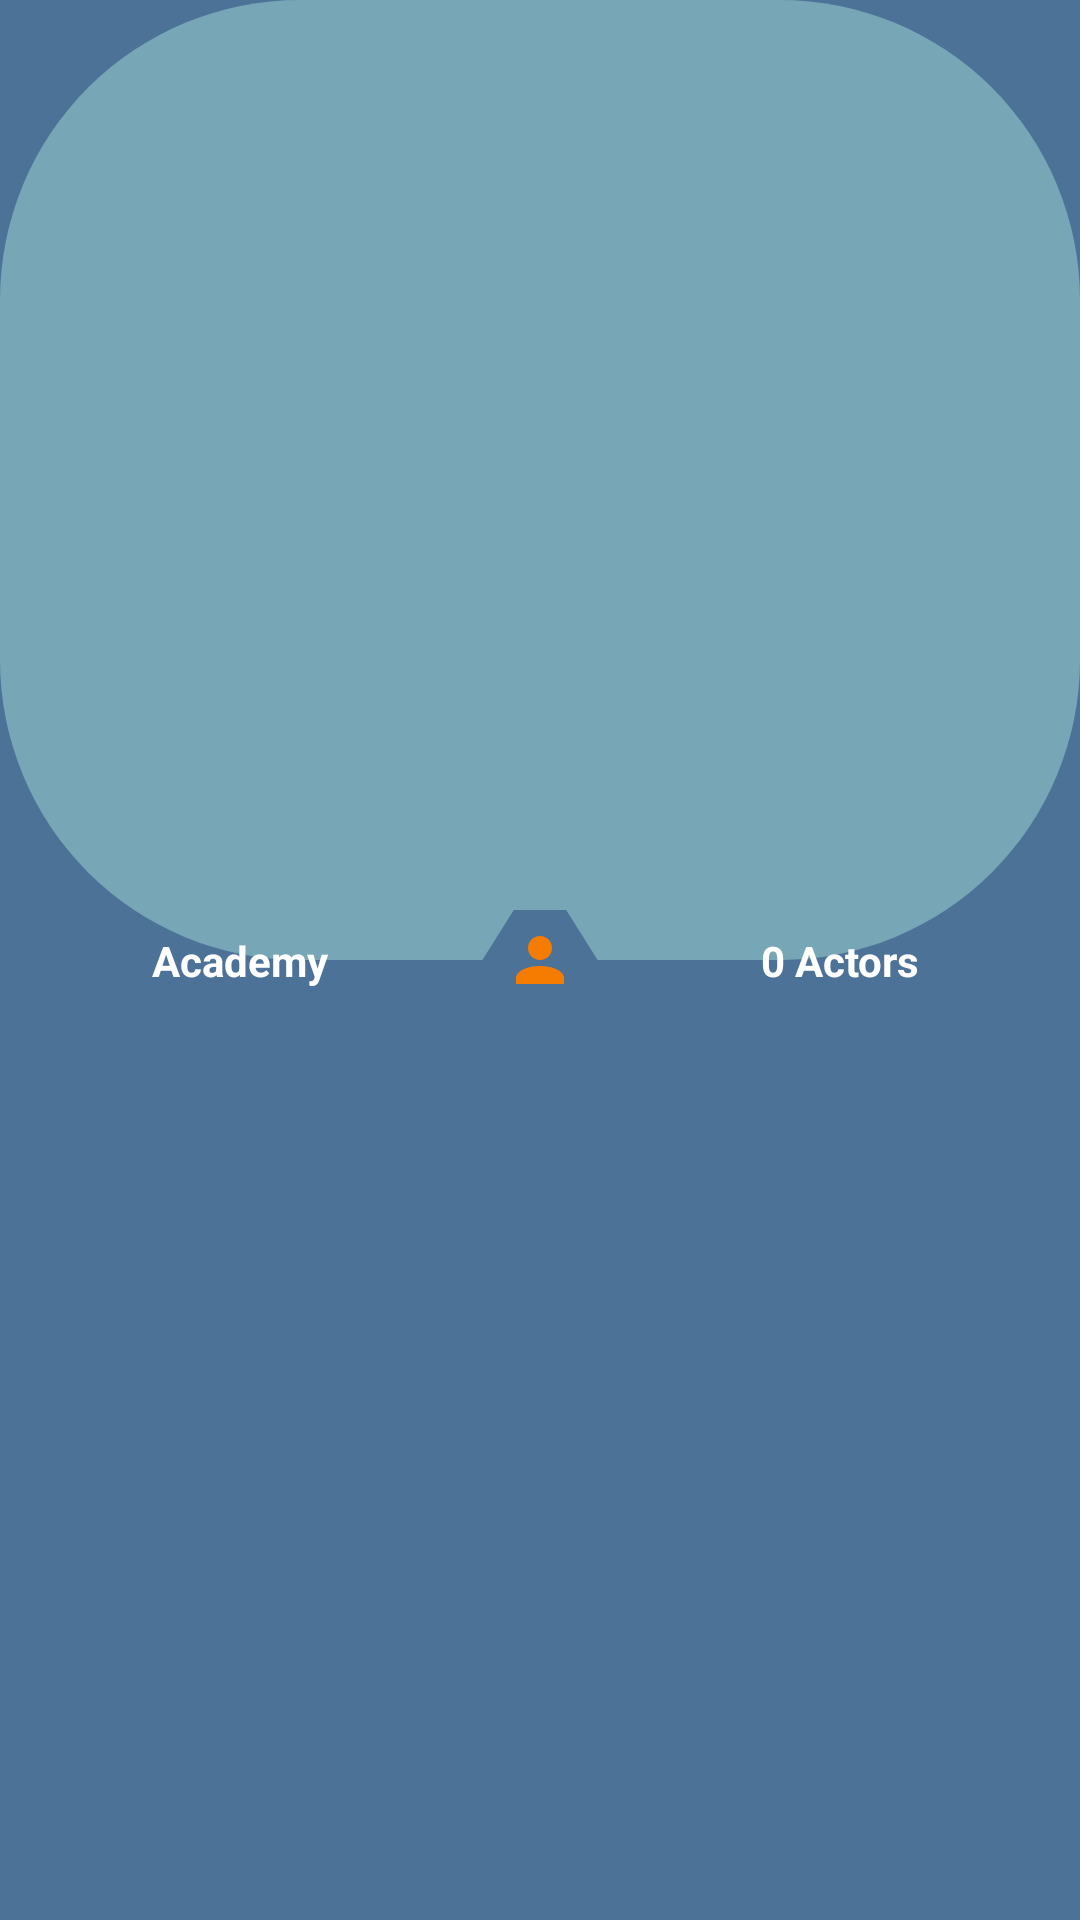

Screen size 1080px x 1920px. Icon name, then its center in pixels as (x=x, y=y):
Actor hexagonal variant icon: (x=540, y=960)
